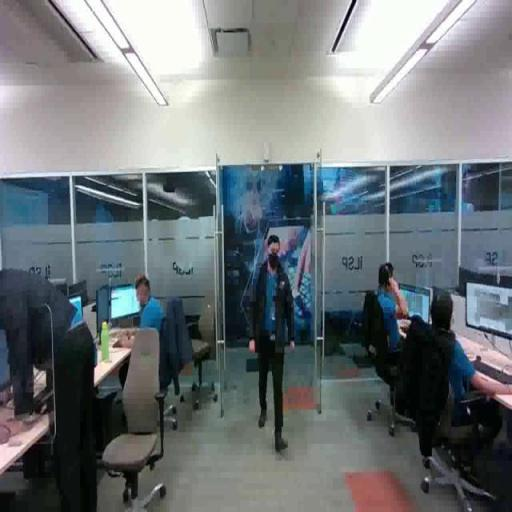person: (1, 226, 102, 512), (393, 285, 512, 456), (247, 238, 301, 463), (125, 274, 185, 405), (360, 258, 424, 379)
